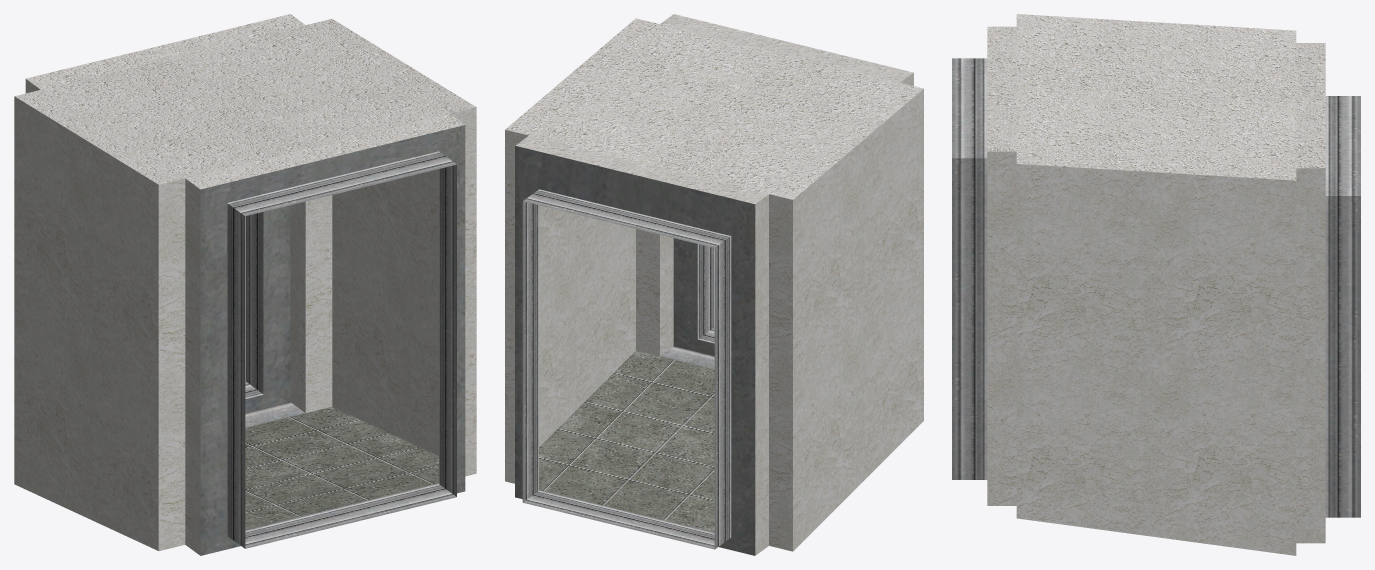
File: ply_corl_house_lg_s01_fp1_r12_hallway3_mesh_r12.fbx
The picture shows the model from 3 angles, left to right: view 1: azimuth 30°, elevation 25°; view 2: azimuth 150°, elevation 25°; view 3: azimuth 270°, elevation 25°; orthographic projection. The views are drawn at different scales.
Parts seen in each view (by area): view 1: mesh_node; view 2: mesh_node; view 3: mesh_node.
Part boxes in pixels (x1,y1,x2,y2): mesh_node: [14, 14, 476, 555]; mesh_node: [505, 14, 923, 555]; mesh_node: [952, 14, 1360, 555].
Size of the model in its own units: 3 by 3.66 by 3.45.
